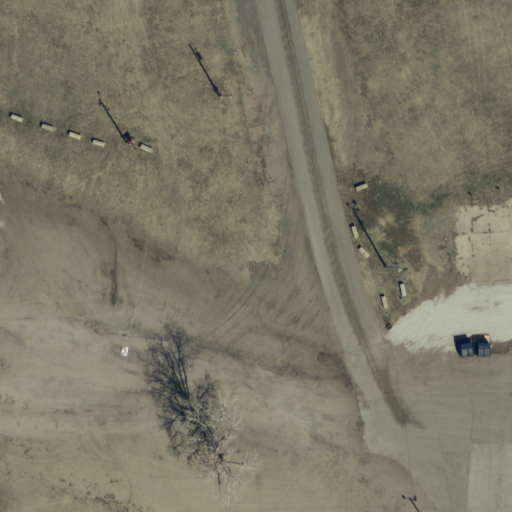DT: (378, 257, 412, 280), (115, 129, 139, 156), (212, 84, 236, 111)
